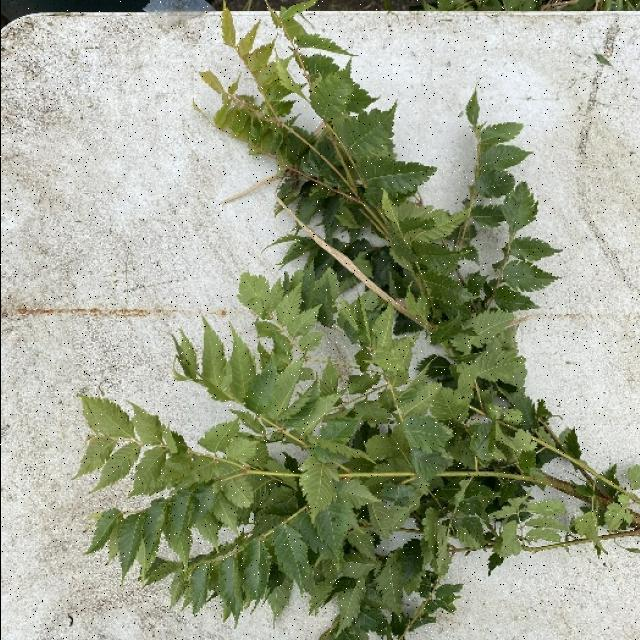organik: (88, 66, 640, 639)
